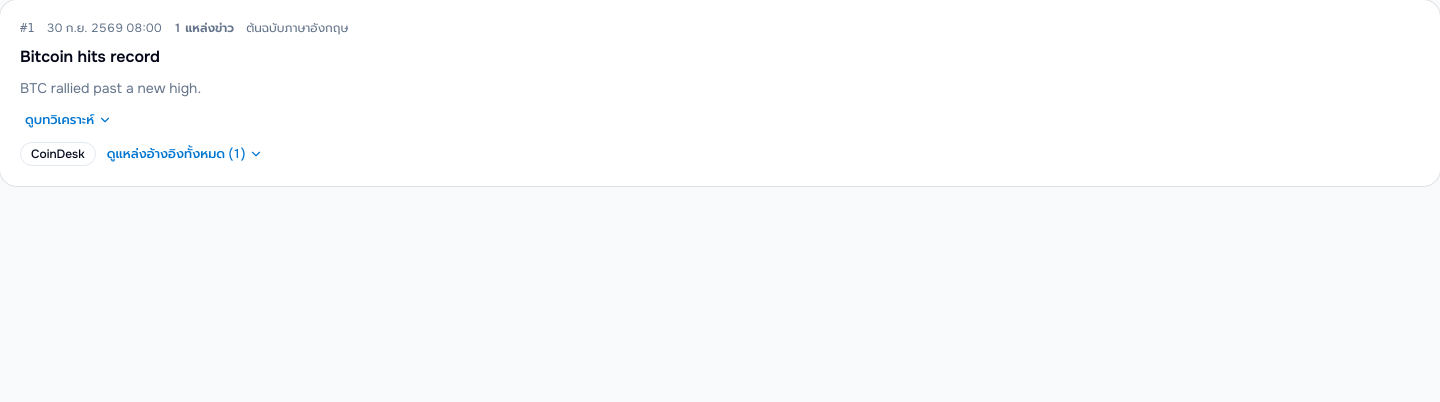
it: AI analysis on a news card › says so when the story affects no specific asset
Click the button "ดูบทวิเคราะห์" at (69, 120), box [20, 108, 117, 132]
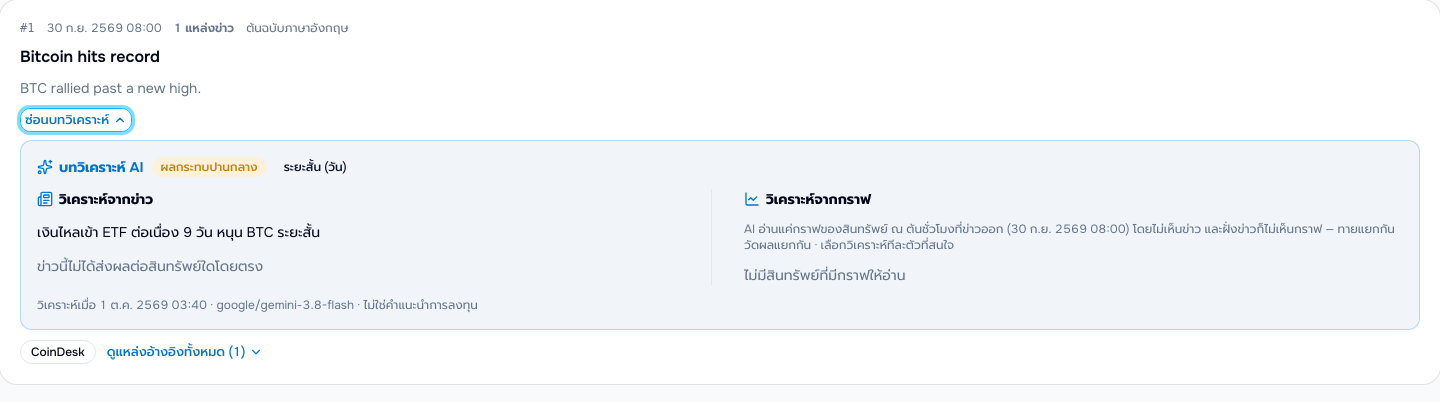
Result: the text "ข่าวนี้ไม่ได้ส่งผลต่อสินทรัพย์ใดโดยตรง" is shown at [37, 257, 263, 275]
